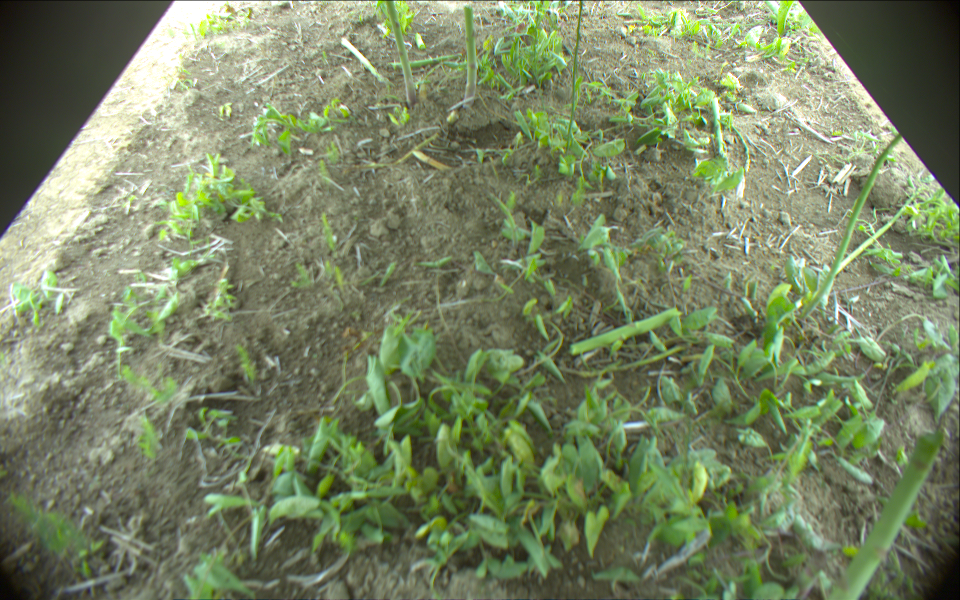aspa: (800, 130, 901, 330), (829, 430, 940, 600), (834, 173, 934, 278), (570, 307, 681, 356), (386, 1, 418, 105), (564, 1, 585, 154), (339, 37, 388, 85), (464, 4, 477, 108), (389, 52, 463, 68), (710, 95, 726, 159)
